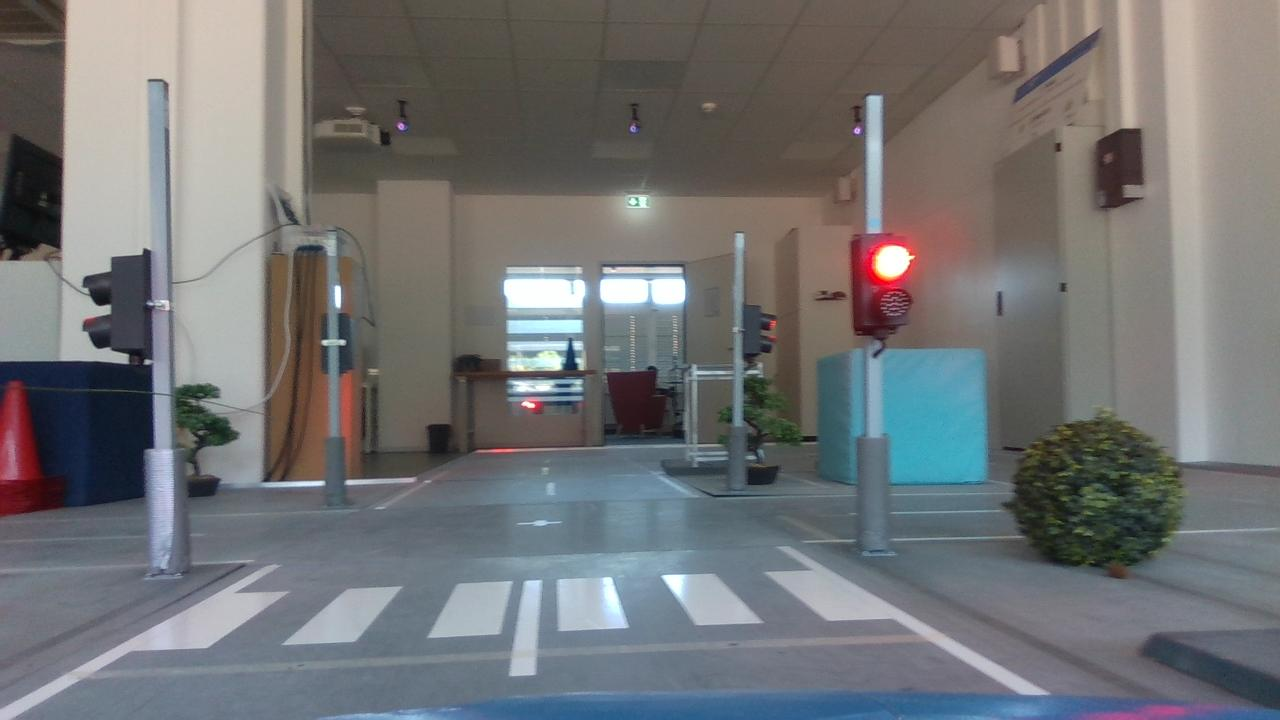traffic_light_red: (839, 222, 926, 345)
